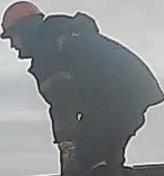gloves: (53, 136, 85, 176)
helmet: (0, 0, 46, 38)
vest: (25, 24, 163, 118)
